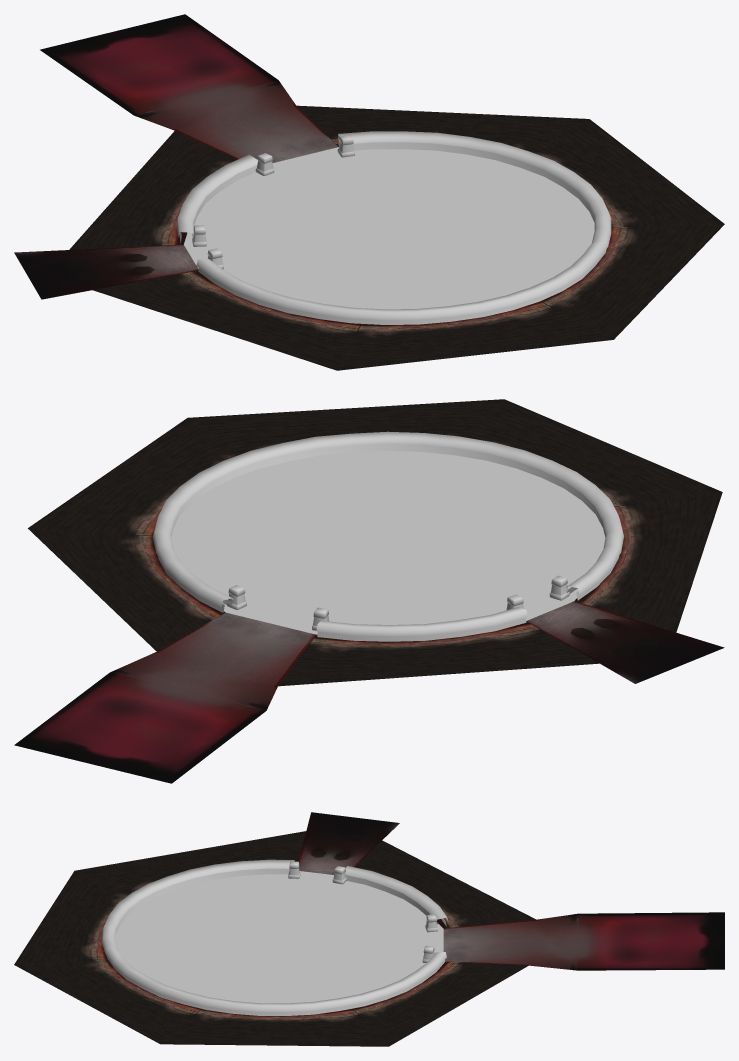
File: circus_floor.FBX
The picture shows the model from 3 angles, top to bottom: view 1: azimuth 30°, elevation 25°; view 2: azimuth 150°, elevation 25°; view 3: azimuth 270°, elevation 25°; orthographic projection. The views are drawn at different scales.
Parts seen in each view (by area): view 1: circus_floor, circus_border, circus_border_poles; view 2: circus_floor, circus_border, circus_border_poles; view 3: circus_floor, circus_border, circus_border_poles.
Part boxes in pixels (x1,y1,x2,y2): circus_floor: (14,14,724,370); circus_border: (176,131,611,324); circus_border_poles: (192,135,354,269); circus_floor: (14,399,724,783); circus_border: (152,431,623,641); circus_border_poles: (226,575,569,630); circus_floor: (14,812,724,1046); circus_border: (101,859,448,1015); circus_border_poles: (288,861,437,962).
Size of the model in its own units: 995 by 27.95 by 1275.
